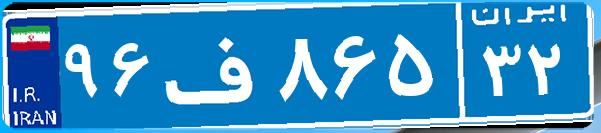2: (525, 38, 570, 115)
3: (475, 38, 525, 113)
5: (385, 28, 445, 110)
6: (330, 28, 385, 110), (110, 28, 158, 105)
8: (273, 28, 330, 110)
9: (57, 26, 110, 107)
ف: (158, 15, 273, 115)
